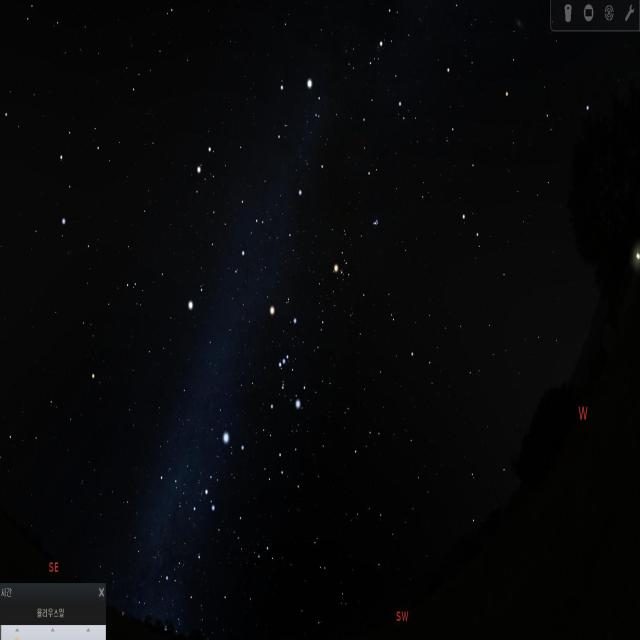canis_major: (198, 429, 250, 522)
canis_minor: (184, 279, 211, 320)
gemini: (190, 140, 260, 259)
orion: (264, 300, 308, 422)
pleiades: (370, 212, 381, 236)
taurus: (331, 207, 391, 314)
